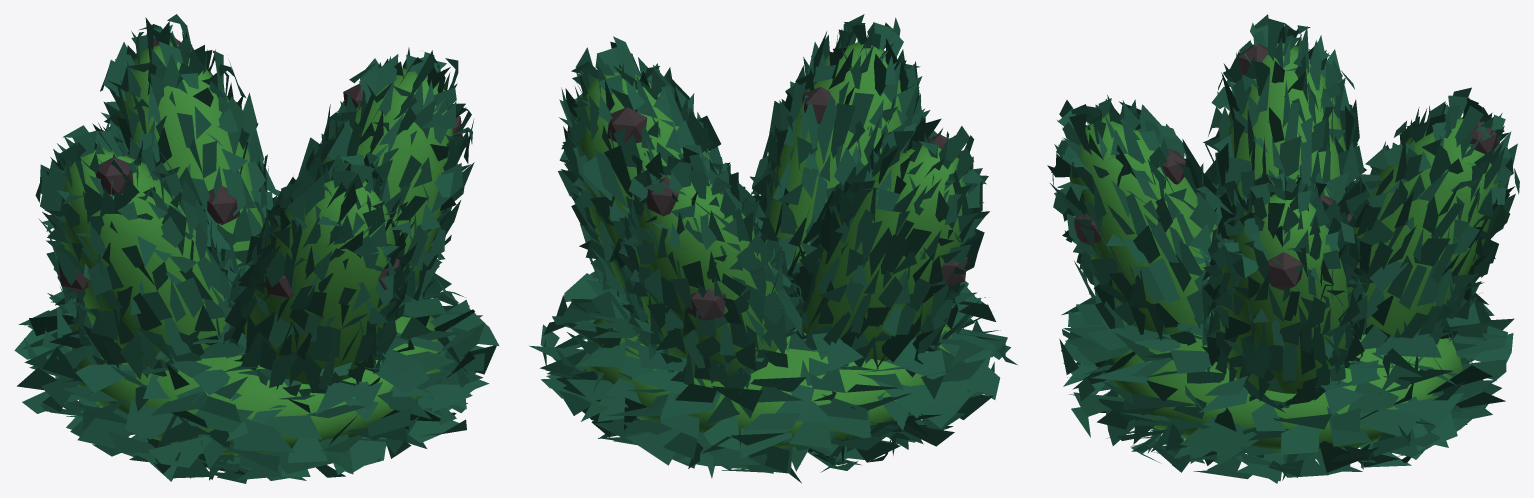
The model's file is Bush3.fbx.
3 views of the same model, side by side, from view 1: azimuth 30°, elevation 25°; view 2: azimuth 150°, elevation 25°; view 3: azimuth 270°, elevation 25° (orthographic). The views are drawn at different scales.
Parts seen in each view (by area): view 1: Icosphere.009; view 2: Icosphere.009; view 3: Icosphere.009.
Part boxes in pixels (left/top/right/bottom): Icosphere.009: left=14, top=14, right=499, bottom=483; Icosphere.009: left=529, top=14, right=1017, bottom=483; Icosphere.009: left=1047, top=14, right=1519, bottom=483.
Bounding box in the file's own units: 264 × 207 × 263.
